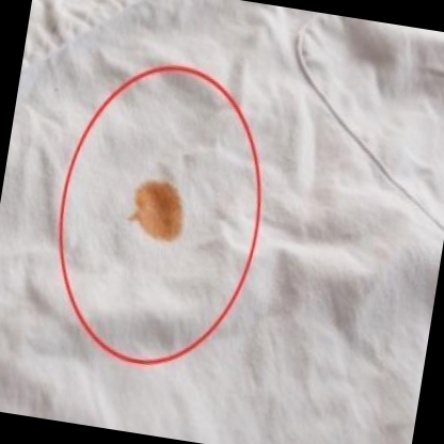kimchi: (109, 165, 201, 252)
